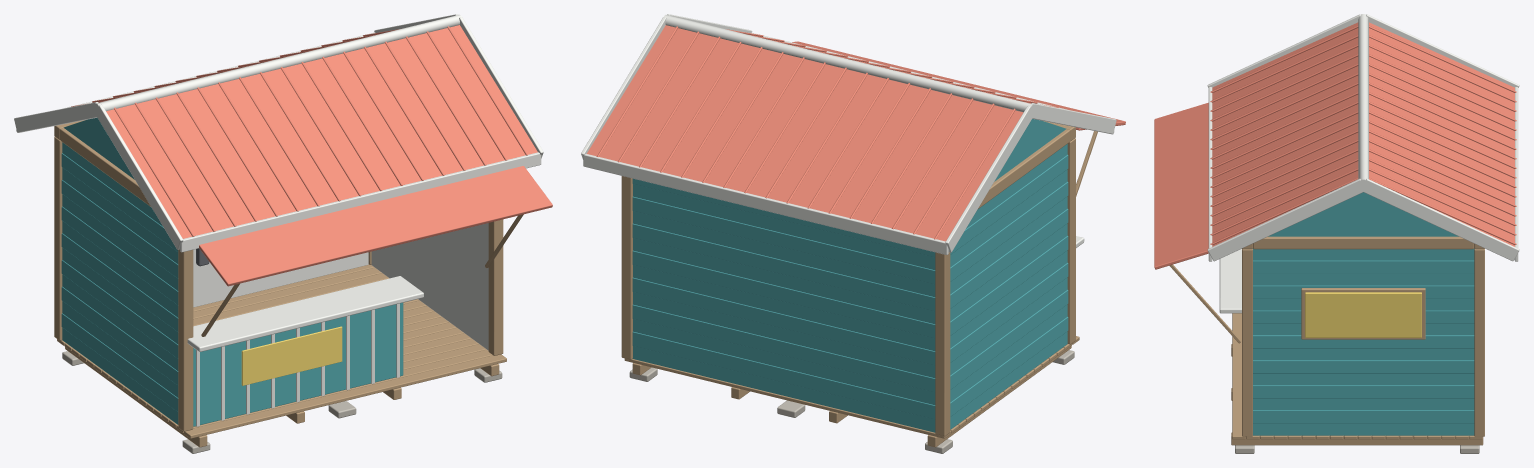
File: beach-surf-and-paddle-kit-surf-hire-hut-465717eb.glb
The picture shows the model from 3 angles, left to right: view 1: azimuth 30°, elevation 25°; view 2: azimuth 150°, elevation 25°; view 3: azimuth 270°, elevation 25°; orthographic projection. The views are drawn at different scales.
Visible parts, largest first — view 1: surf-hire-hut-coral, surf-hire-hut-teal, surf-hire-hut-foam, surf-hire-hut-timber, surf-hire-hut-sun, surf-hire-hut-drift; view 2: surf-hire-hut-teal, surf-hire-hut-coral, surf-hire-hut-foam, surf-hire-hut-timber, surf-hire-hut-drift; view 3: surf-hire-hut-coral, surf-hire-hut-teal, surf-hire-hut-timber, surf-hire-hut-foam, surf-hire-hut-sun.
Boxes of the visible parts, x1,y1,x2,y2 form: surf-hire-hut-coral: (71,25,552,286); surf-hire-hut-teal: (61,117,403,426); surf-hire-hut-foam: (14,14,543,426); surf-hire-hut-timber: (54,120,523,447); surf-hire-hut-sun: (241,326,342,385); surf-hire-hut-drift: (62,351,502,453); surf-hire-hut-teal: (632,119,1068,432); surf-hire-hut-coral: (587,25,1125,241); surf-hire-hut-foam: (581,14,1116,254); surf-hire-hut-timber: (621,121,1097,447); surf-hire-hut-drift: (629,350,1074,453); surf-hire-hut-coral: (1154,22,1516,269); surf-hire-hut-teal: (1252,192,1474,435); surf-hire-hut-timber: (1169,236,1484,445); surf-hire-hut-foam: (1207,14,1519,313); surf-hire-hut-sun: (1305,292,1421,337).
Bounding box in the file's own units: 4.36 × 3.52 × 4.06.
